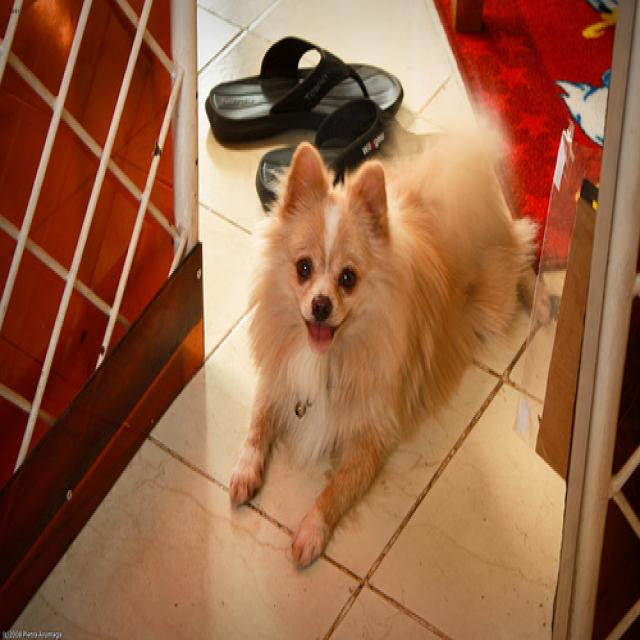dog-pomeranian: (220, 90, 553, 578)
